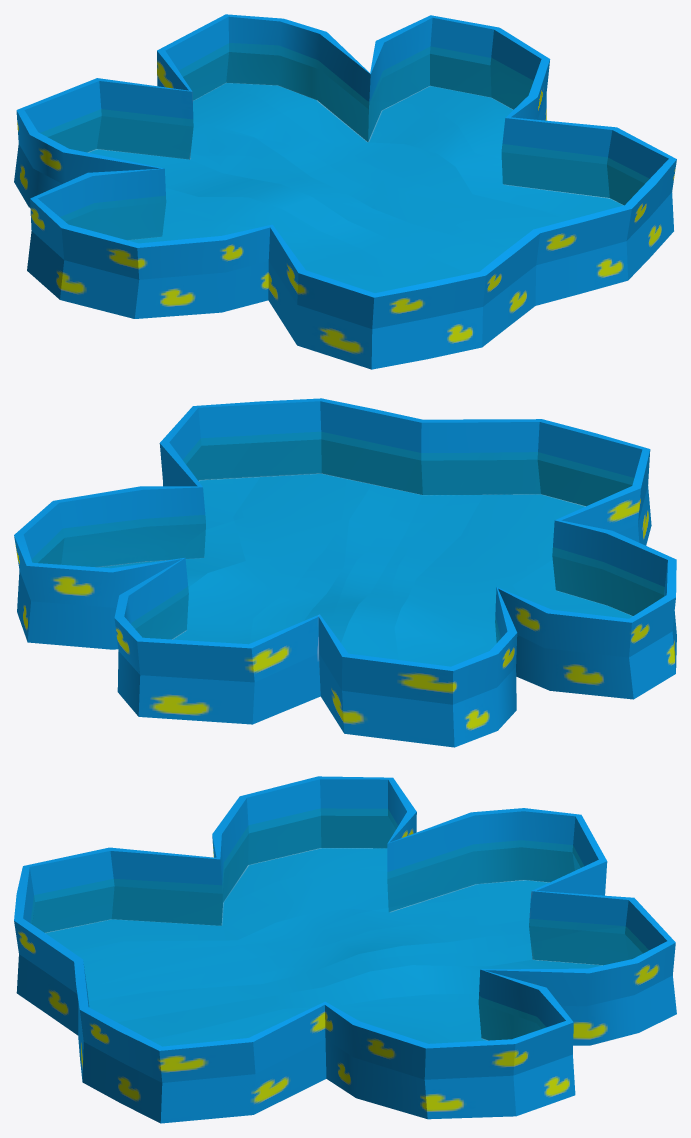
File: Pool.fbx
3 views of the same model, one above another, from view 1: azimuth 30°, elevation 25°; view 2: azimuth 150°, elevation 25°; view 3: azimuth 270°, elevation 25° (orthographic). The views are drawn at different scales.
Visible parts, largest first — view 1: Sides, Water, Bottom; view 2: Sides, Water, Bottom; view 3: Sides, Water, Bottom.
Boxes of the visible parts, bbox=[...] form: Sides: bbox=[14, 14, 676, 369]; Water: bbox=[41, 43, 648, 292]; Bottom: bbox=[88, 82, 623, 292]; Sides: bbox=[14, 398, 676, 747]; Water: bbox=[32, 432, 664, 666]; Bottom: bbox=[100, 473, 632, 666]; Sides: bbox=[14, 776, 676, 1123]; Water: bbox=[31, 808, 648, 1046]; Bottom: bbox=[45, 848, 602, 1046].
Size of the model in its own units: 210 by 31.1 by 217.
2 materials, 1 textured.
